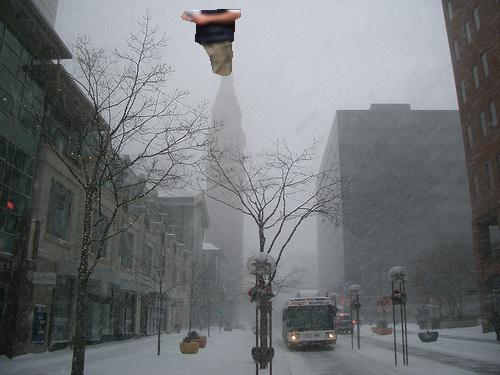tampered: (182, 10, 241, 76)
